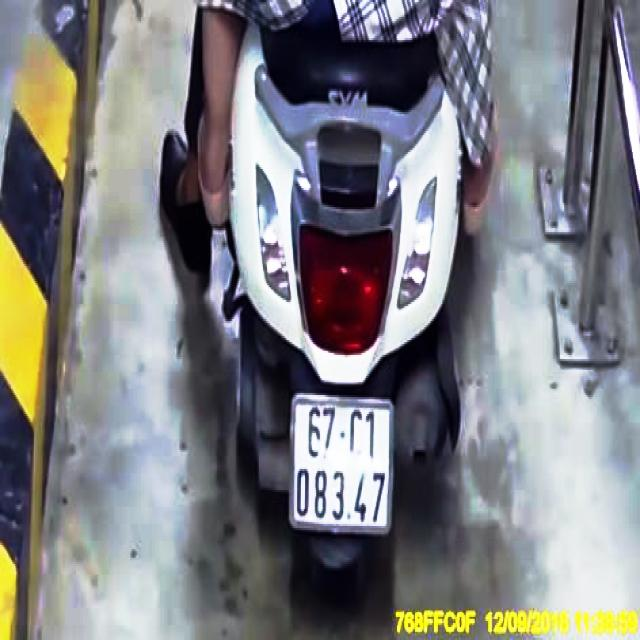license_plate: (291, 399, 395, 535)
